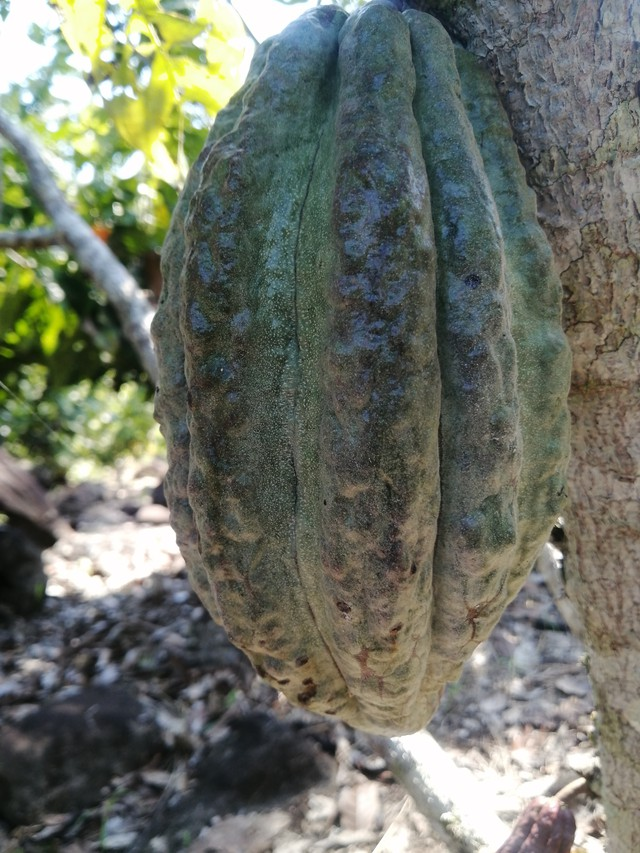Health: (145, 0, 585, 740)
